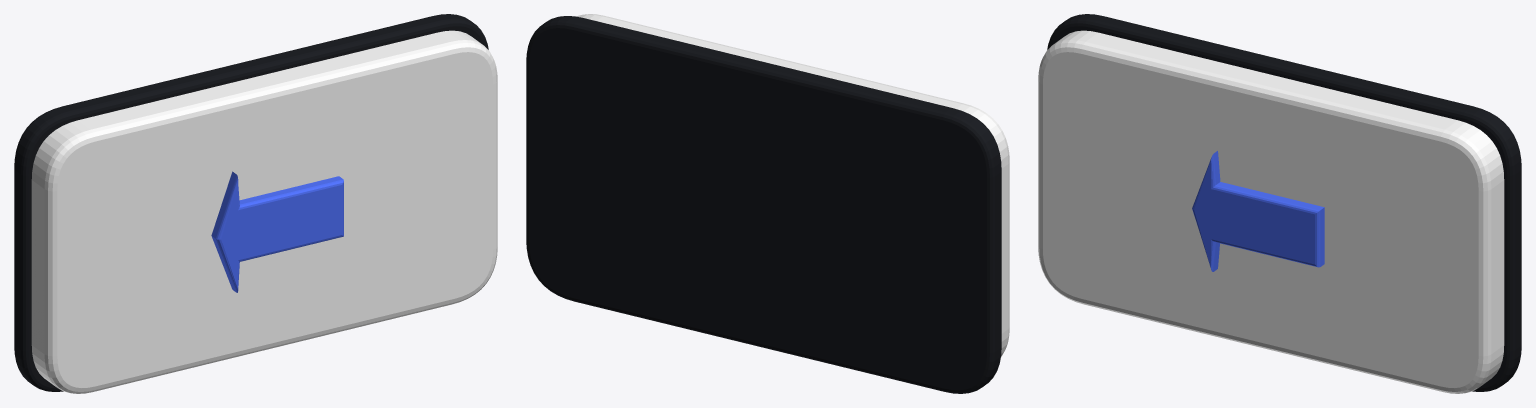
File: key-undo.glb
3 views of the same model, side by side, from view 1: azimuth 30°, elevation 25°; view 2: azimuth 150°, elevation 25°; view 3: azimuth 330°, elevation 25° (orthographic).
Parts seen in each view (by area): view 1: key-undo-cap, key-undo-socket, key-undo-icon; view 2: key-undo-socket, key-undo-cap; view 3: key-undo-cap, key-undo-socket, key-undo-icon.
Boxes of the visible parts, bbox=[...] form: key-undo-cap: bbox=[31, 30, 497, 393]; key-undo-socket: bbox=[14, 14, 488, 391]; key-undo-icon: bbox=[211, 171, 343, 292]; key-undo-socket: bbox=[526, 16, 1001, 393]; key-undo-cap: bbox=[576, 14, 1009, 356]; key-undo-cap: bbox=[1038, 30, 1504, 393]; key-undo-socket: bbox=[1047, 14, 1521, 391]; key-undo-icon: bbox=[1192, 151, 1324, 271].
Size of the model in its own units: 1.16 by 0.66 by 0.152.
